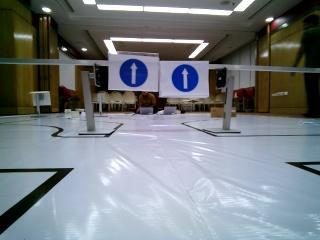straight: (109, 53, 156, 91), (160, 62, 208, 97)
